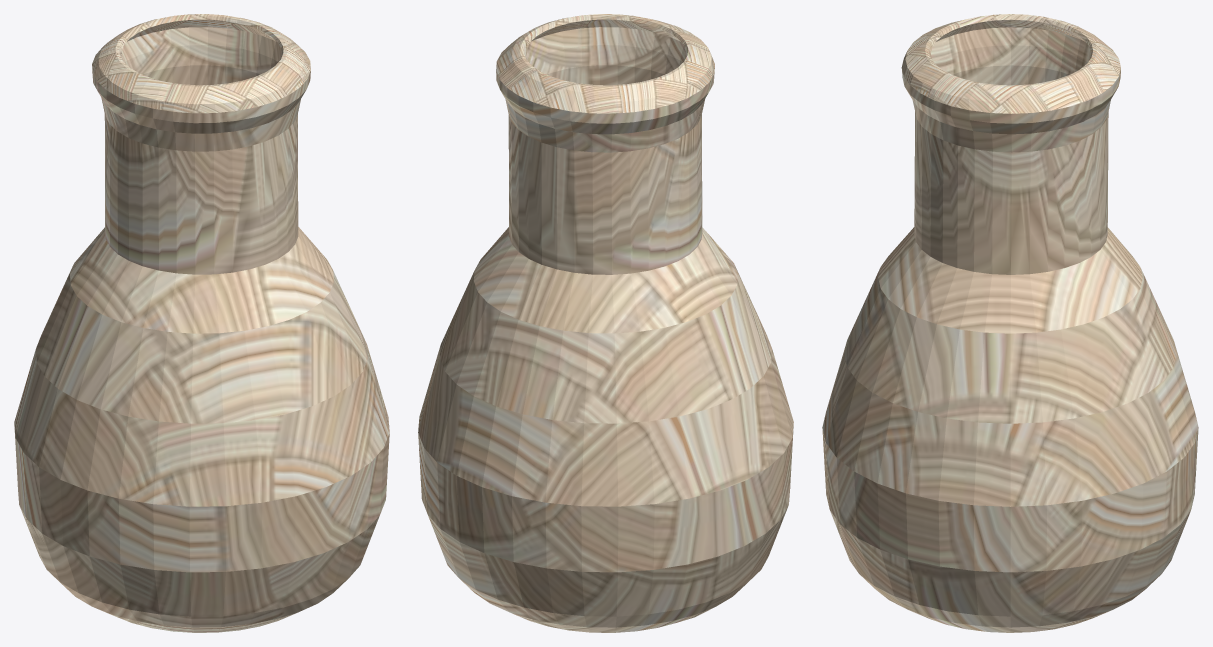
File: vase.dae
The picture shows the model from 3 angles, left to right: view 1: azimuth 30°, elevation 25°; view 2: azimuth 150°, elevation 25°; view 3: azimuth 270°, elevation 25°; orthographic projection.
Visible parts, largest first — view 1: Circle; view 2: Circle; view 3: Circle.
Part boxes in pixels (x1=…): Circle: x1=14, y1=14, x2=389, y2=632; Circle: x1=418, y1=14, x2=793, y2=632; Circle: x1=822, y1=14, x2=1198, y2=632.
Bounding box in the file's own units: 2.44 × 2.44 × 3.82.
1 material, 1 textured.
